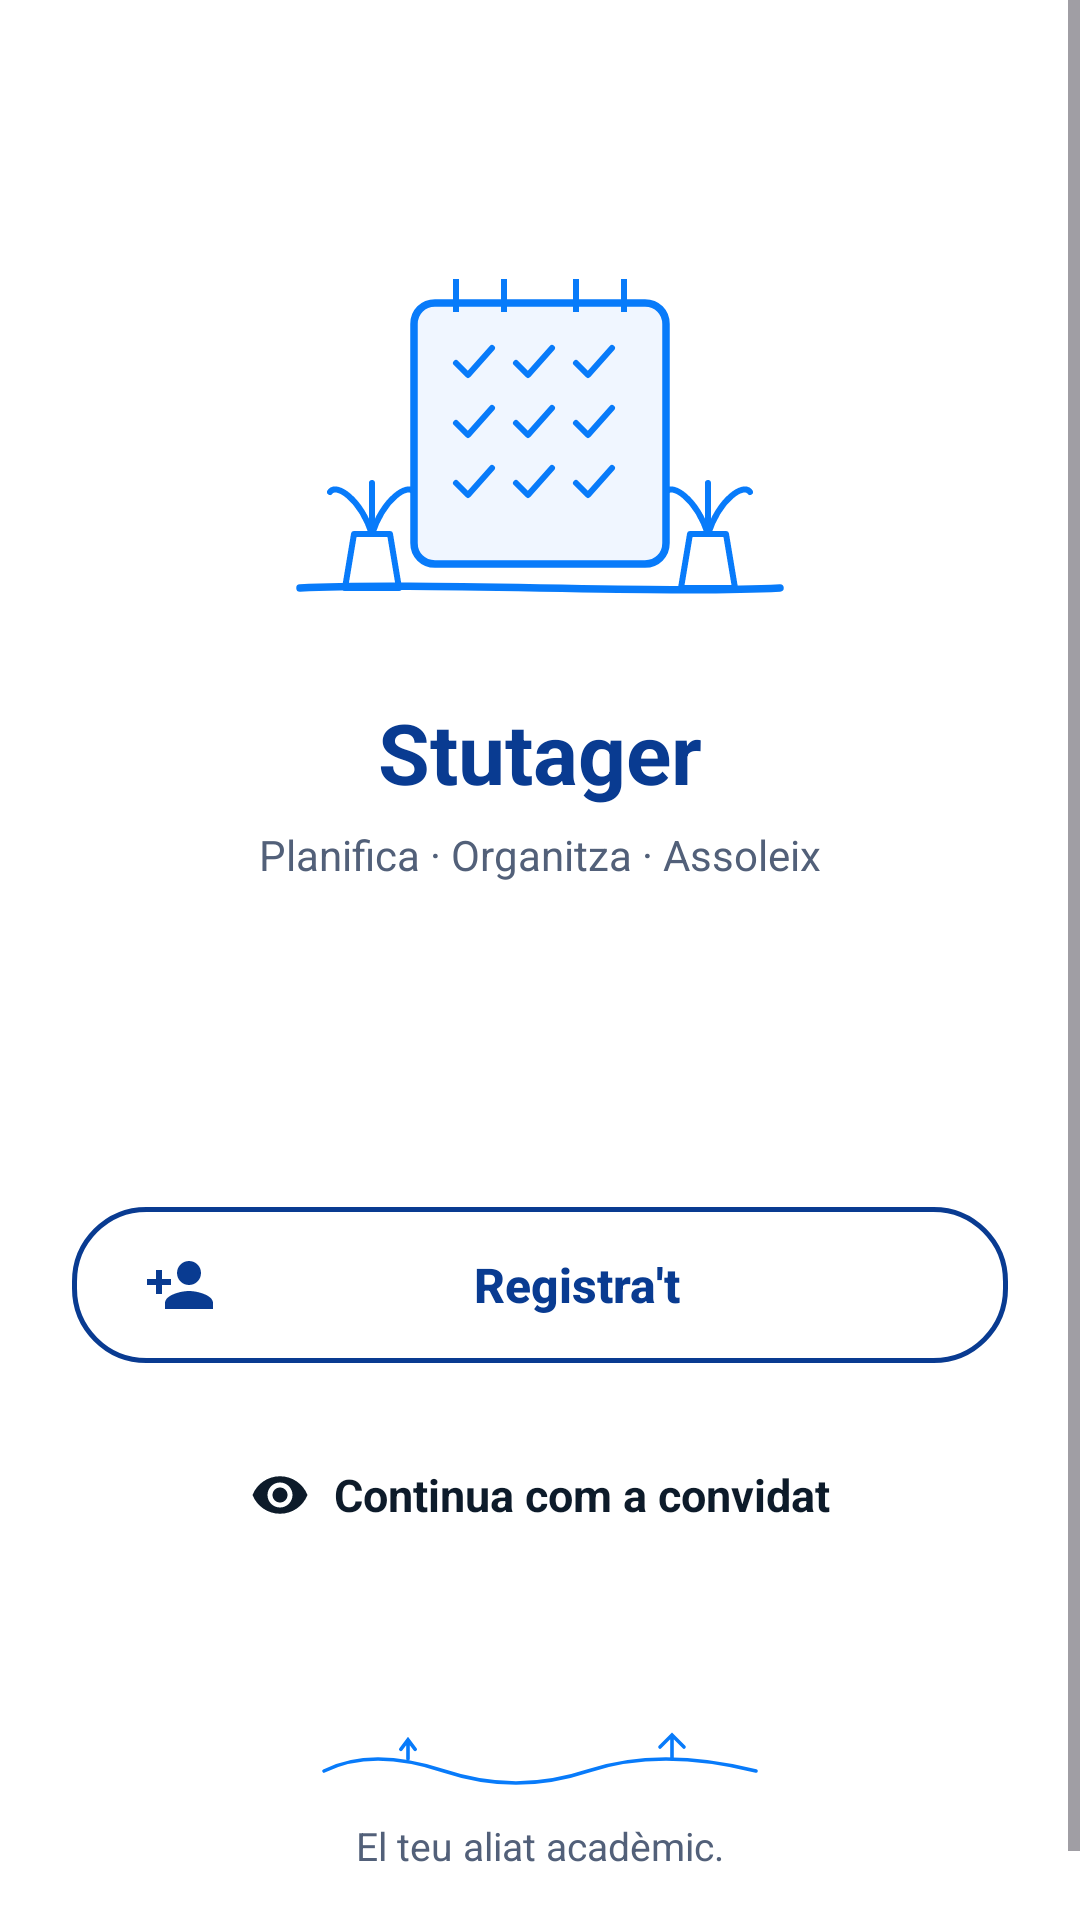

Where to tap for icons on this 1080w x 1920h app screen, as point (x, y):
eye: point (280, 1495)
